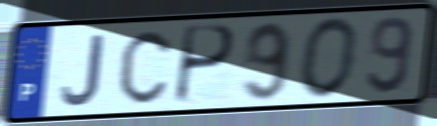9: (243, 19, 294, 103), (364, 14, 415, 97)
C: (118, 28, 173, 106)
J: (59, 32, 105, 108)
O: (298, 15, 362, 101)
P: (171, 22, 238, 107)
